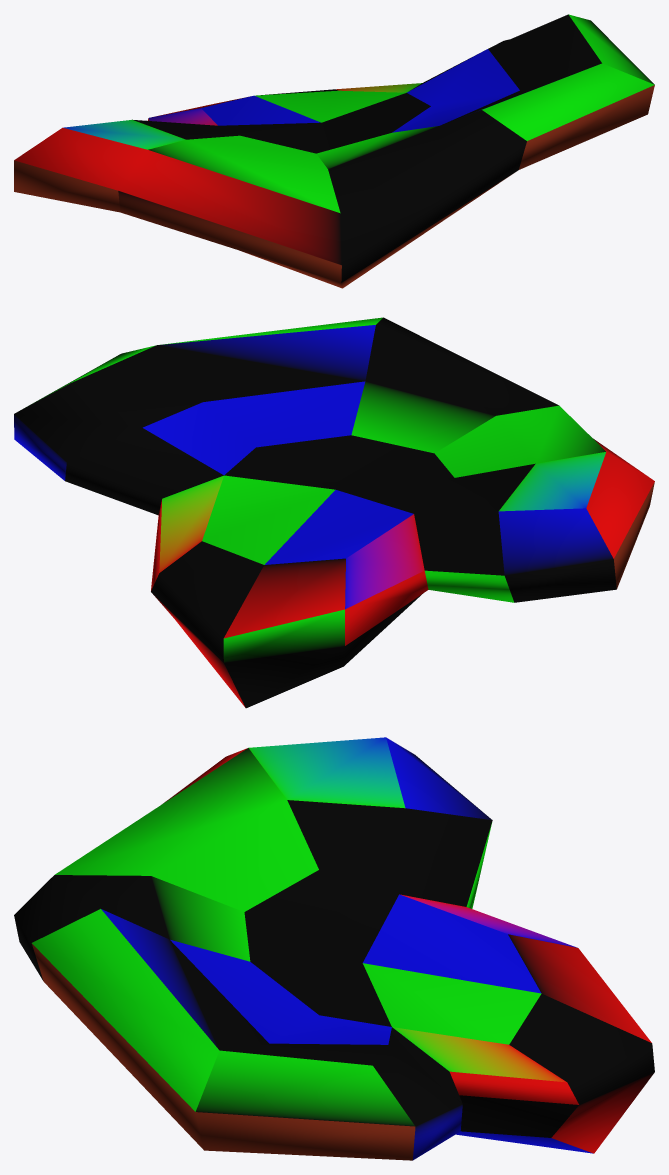
Rendered from SM_Ganoderma.FBX.
3 views of the same model, one above another, from view 1: azimuth 30°, elevation 25°; view 2: azimuth 150°, elevation 25°; view 3: azimuth 270°, elevation 25° (orthographic). The views are drawn at different scales.
Parts seen in each view (by area): view 1: Ganoderma; view 2: Ganoderma; view 3: Ganoderma.
Part boxes in pixels (x1=…): Ganoderma: x1=14, y1=14, x2=654, y2=288; Ganoderma: x1=14, y1=317, x2=654, y2=708; Ganoderma: x1=14, y1=737, x2=654, y2=1160.
Size of the model in its own units: 58.43 by 20.89 by 42.57.
